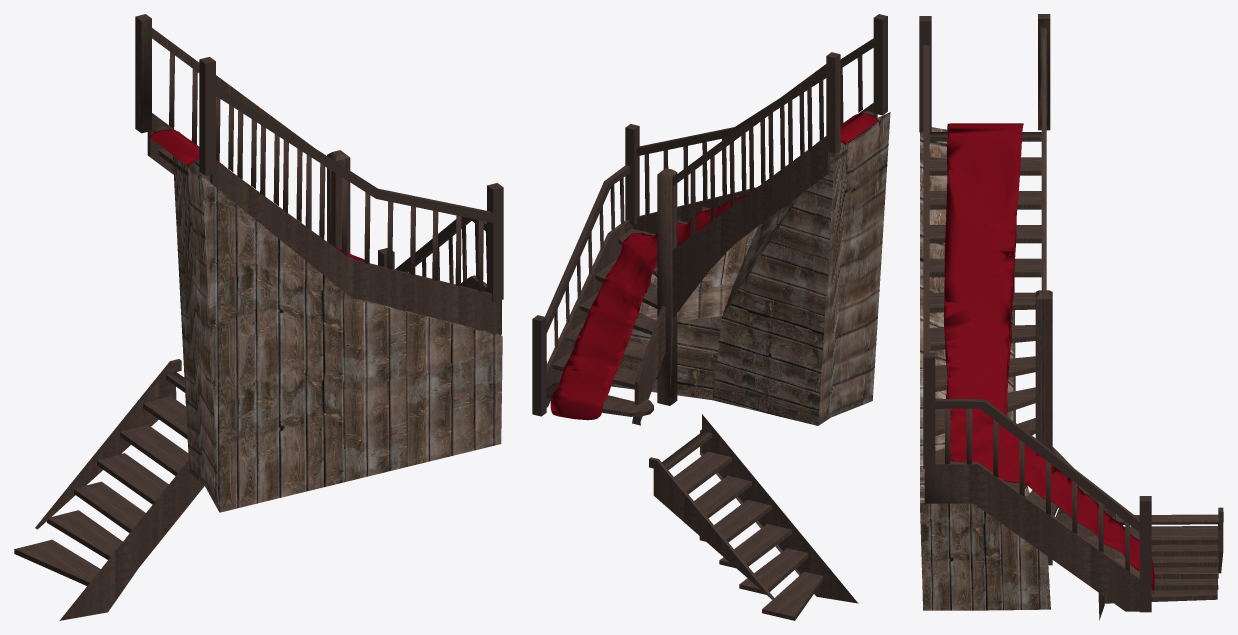
File: stairs.fbx
The picture shows the model from 3 angles, left to right: view 1: azimuth 30°, elevation 25°; view 2: azimuth 150°, elevation 25°; view 3: azimuth 270°, elevation 25°; orthographic projection. The views are drawn at different scales.
Visible parts, largest first — view 1: stairs_base, stairs_up, stairs_down, carpet; view 2: stairs_base, stairs_up, stairs_down, carpet; view 3: stairs_up, carpet, stairs_base, stairs_down.
Part boxes in pixels (x1,y1,x2,y2): stairs_base: (172,155,502,512); stairs_up: (135,14,503,334); stairs_down: (14,359,204,620); carpet: (149,129,364,261); stairs_base: (611,112,890,425); stairs_up: (532,14,887,425); stairs_down: (649,414,858,620); carpet: (550,113,878,420); stairs_up: (919,14,1151,612); carpet: (944,123,1154,593); stairs_base: (920,127,1050,610); stairs_down: (1098,507,1223,620).
Size of the model in its own units: 246 by 404 by 183.
